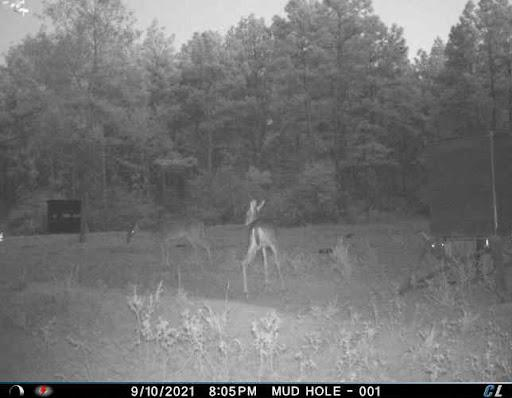Deer: (125, 214, 216, 273), (238, 193, 285, 297)
